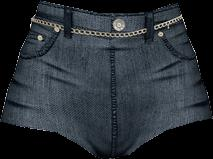Hemline: (1, 120, 97, 157), (129, 116, 212, 155)
Pantleg: (2, 1, 117, 158), (113, 4, 211, 157)
Waistline: (34, 14, 182, 34), (40, 1, 176, 14)
